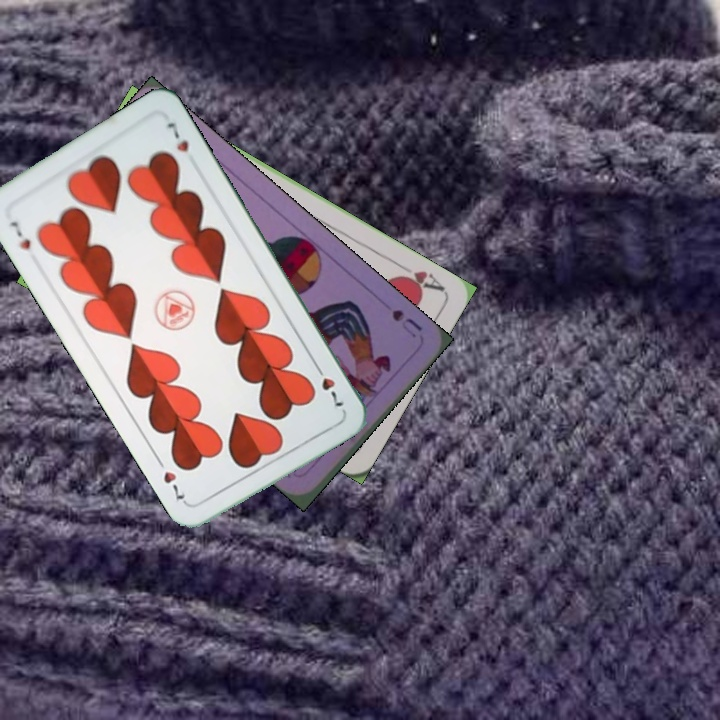H7: (310, 359, 346, 410), (6, 217, 34, 252)
HA: (390, 258, 447, 294)
SU: (384, 303, 426, 341)
